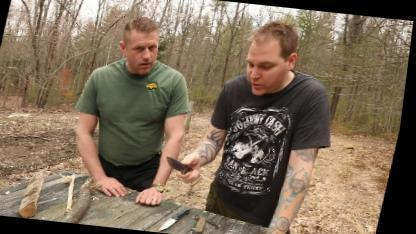knife: (160, 151, 209, 184)
